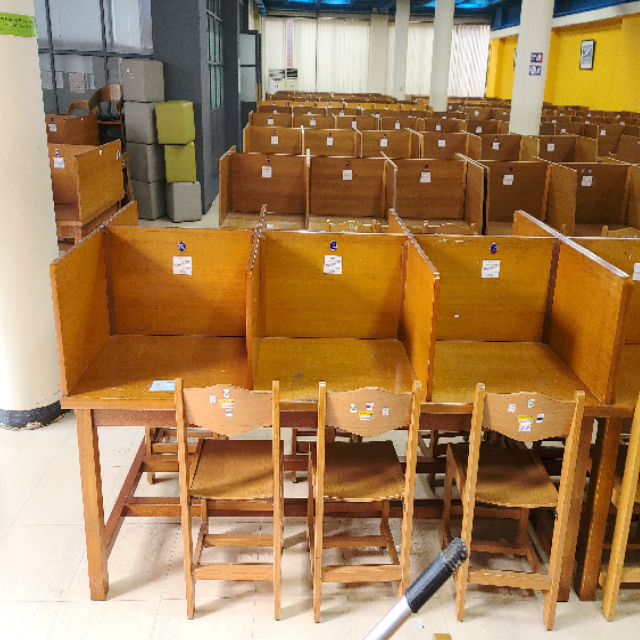empty: (62, 226, 248, 503), (252, 234, 440, 501), (446, 234, 615, 507)
